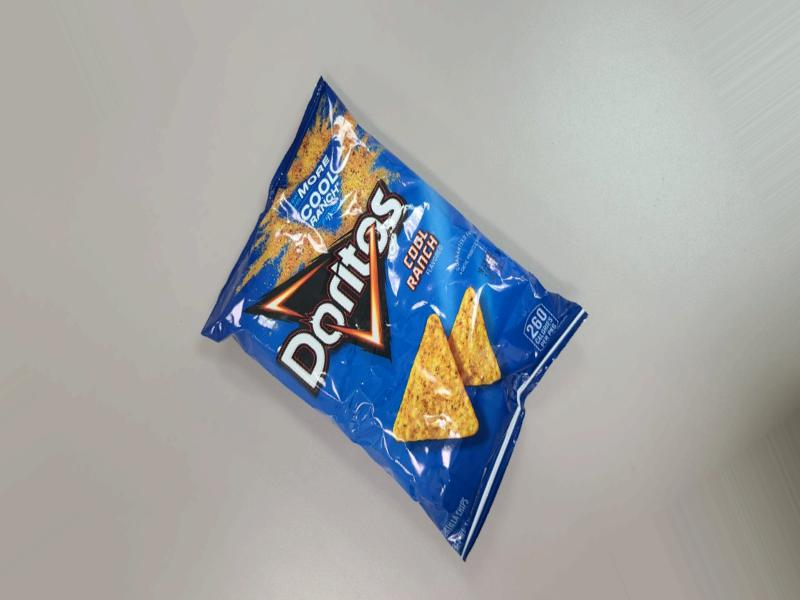doritos: (207, 156, 613, 600)
